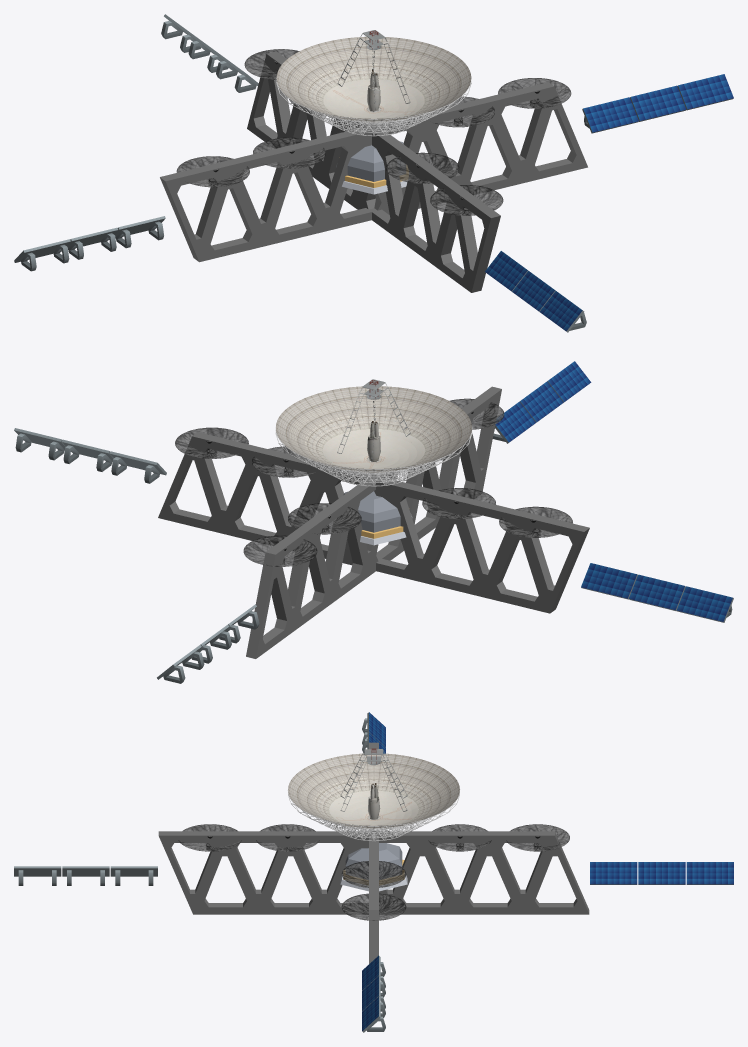
Rendered from sector_array.glb.
The picture shows the model from 3 angles, top to bottom: view 1: azimuth 30°, elevation 25°; view 2: azimuth 150°, elevation 25°; view 3: azimuth 270°, elevation 25°; orthographic projection. The views are drawn at different scales.
Visible parts, largest first — view 1: q_truss.2, q_truss.4, n_dish.18, k_hangar.6, kk_solar.21, kk_solar.23, kk_solar.22, n_umbrella.16, n_umbrella.15, kk_solar.32, n_umbrella.10, n_umbrella.14 (+11 smaller); view 2: q_truss.2, q_truss.4, n_dish.18, k_hangar.6, kk_solar.29, kk_solar.28, kk_solar.27, n_umbrella.12, n_umbrella.11, n_umbrella.10, kk_solar.30, n_umbrella.14 (+11 smaller); view 3: q_truss.4, n_dish.18, k_hangar.6, q_truss.2, n_umbrella.10, n_umbrella.8, kk_solar.24, kk_solar.25, kk_solar.26, n_umbrella.12, n_umbrella.11, n_umbrella.16 (+5 smaller).
Boxes of the visible parts, x1,y1,x2,y2 form: q_truss.2: (160, 82, 587, 262); q_truss.4: (247, 51, 500, 292); n_dish.18: (276, 30, 471, 136); k_hangar.6: (336, 141, 408, 194); kk_solar.21: (582, 97, 638, 133); kk_solar.23: (677, 74, 733, 110); kk_solar.22: (630, 85, 686, 121); n_umbrella.16: (430, 185, 503, 215); n_umbrella.15: (386, 152, 459, 183); kk_solar.32: (539, 291, 586, 332); n_umbrella.10: (498, 78, 571, 108); n_umbrella.14: (176, 156, 249, 187); q_truss.2: (158, 432, 589, 613); q_truss.4: (246, 386, 501, 658); n_dish.18: (275, 379, 472, 486); k_hangar.6: (343, 491, 412, 545); kk_solar.29: (676, 586, 733, 622); kk_solar.28: (629, 574, 685, 611); kk_solar.27: (581, 563, 637, 599); n_umbrella.12: (243, 535, 317, 566); n_umbrella.11: (288, 503, 361, 534); n_umbrella.10: (175, 427, 248, 458); kk_solar.30: (492, 401, 535, 443); n_umbrella.14: (499, 506, 572, 537); q_truss.4: (158, 831, 589, 914); n_dish.18: (288, 748, 459, 841); k_hangar.6: (340, 843, 407, 891); q_truss.2: (369, 742, 378, 963); n_umbrella.10: (341, 893, 406, 920); n_umbrella.8: (341, 861, 406, 887); kk_solar.24: (590, 862, 637, 884); kk_solar.25: (638, 862, 685, 884); kk_solar.26: (686, 862, 733, 884); n_umbrella.12: (506, 824, 569, 851); n_umbrella.11: (428, 824, 491, 851); n_umbrella.16: (178, 824, 241, 851).
Bounding box in the file's own units: 16.71 × 4.17 × 16.71.
Materials: 12 (7 with a texture image).
